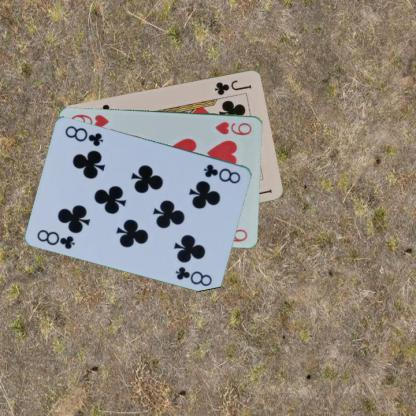8c: (34, 226, 76, 250), (201, 162, 242, 184)
9h: (213, 119, 253, 136)
Jc: (212, 77, 253, 96)
